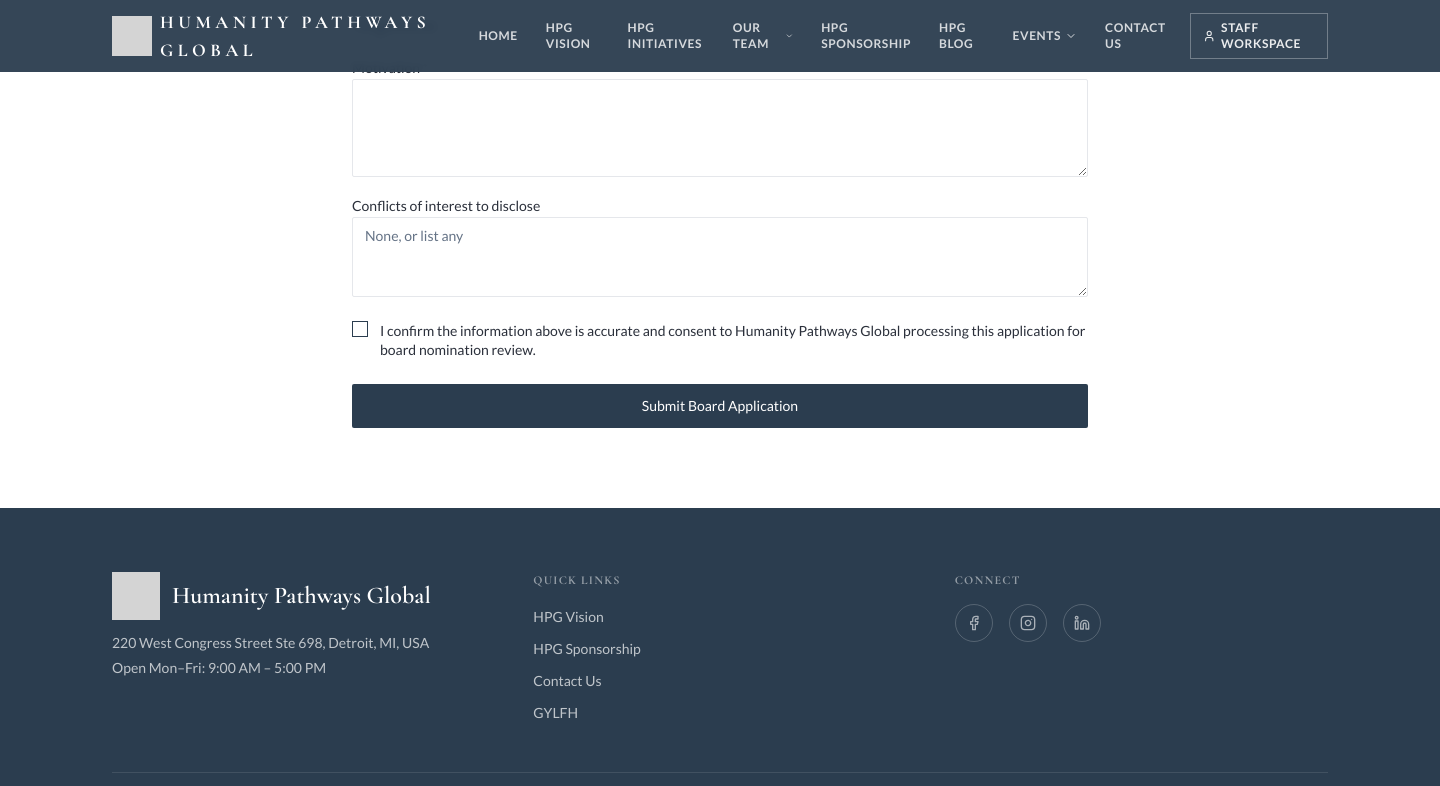
Test: BoardApplication form › blocks submission and shows validation errors on missing required fields
The width and height of the screenshot is (1440, 786).
(page scrolled)
Click the button "Submit Board Application" at (720, 406), box [352,384,1088,428]
(page scrolled)
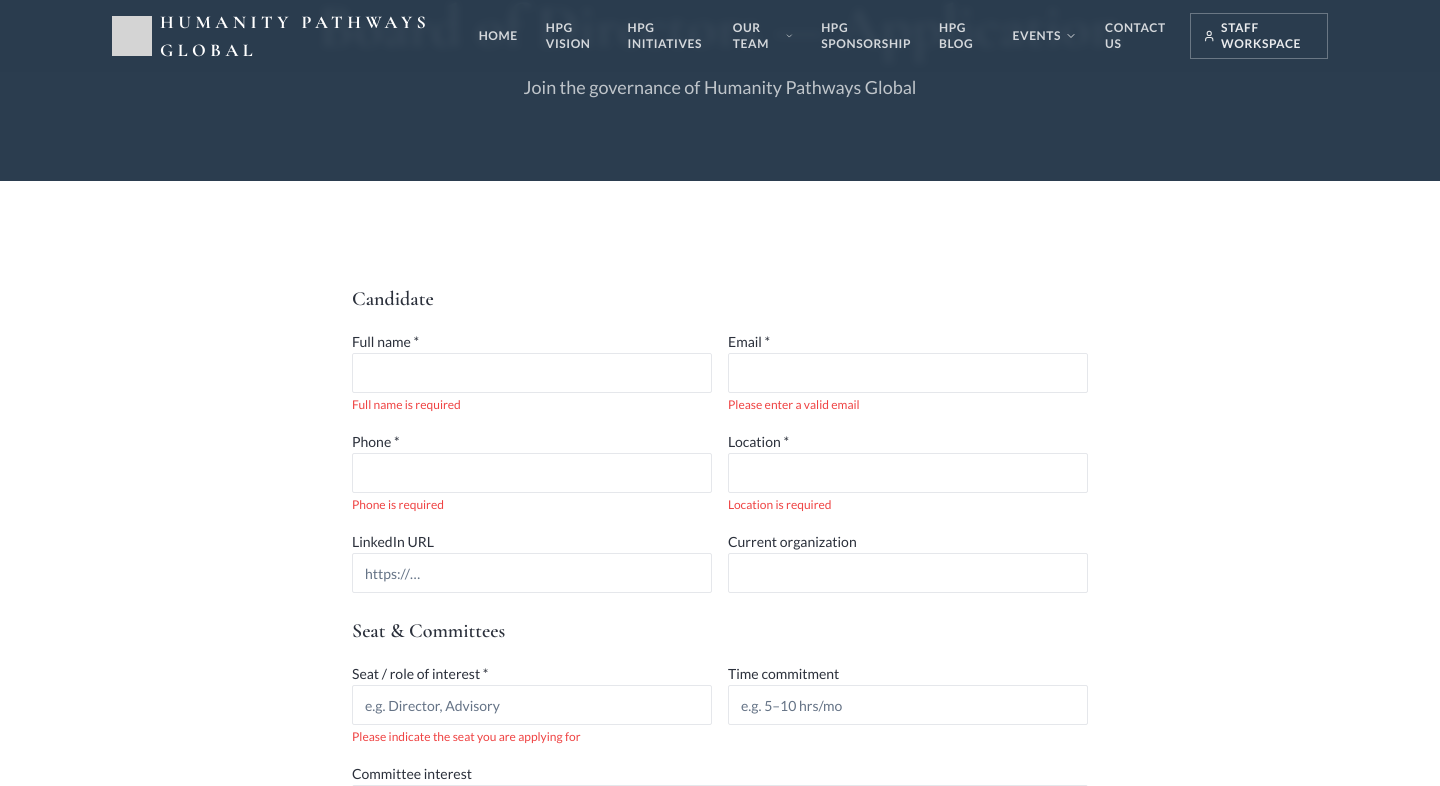
Result: the text "Full name is required" is shown at [352,397,461,412]
